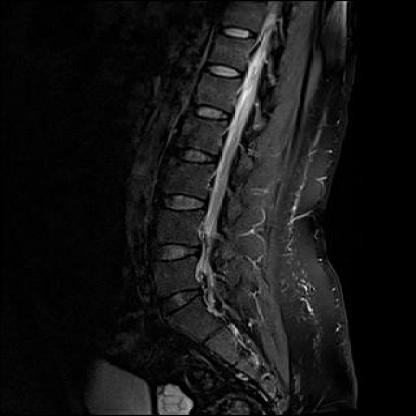Disc Bulgerotation: (151, 287, 213, 315), (144, 239, 206, 266)
